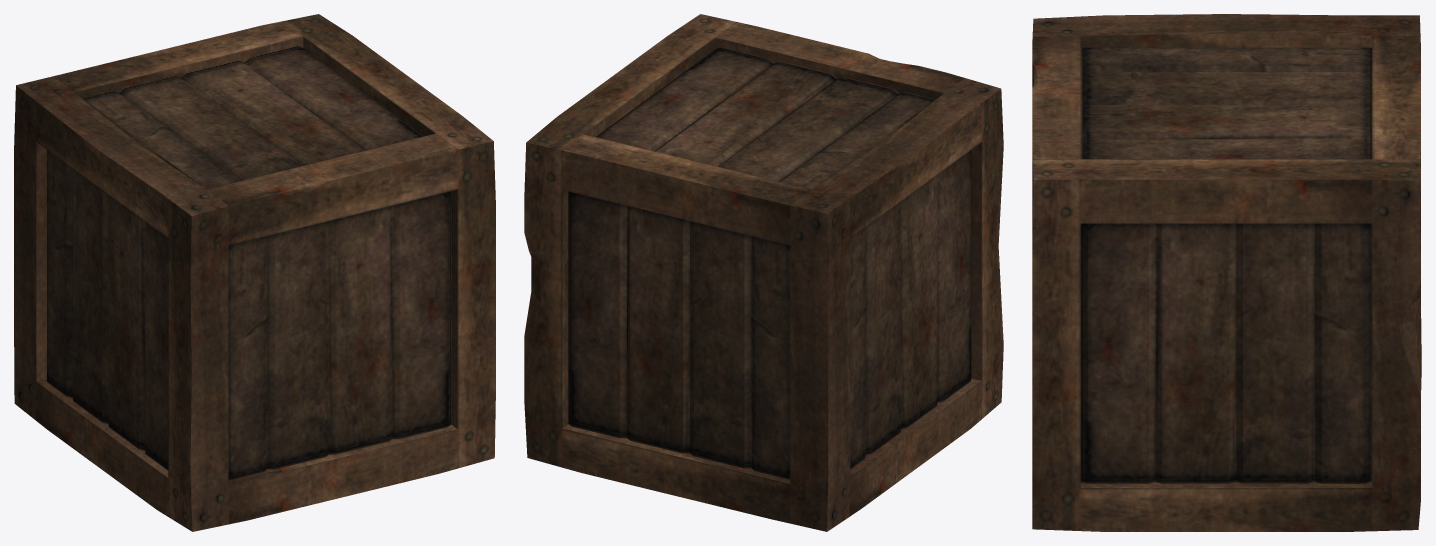
File: wooden_crate_4.obj
3 views of the same model, side by side, from view 1: azimuth 30°, elevation 25°; view 2: azimuth 150°, elevation 25°; view 3: azimuth 270°, elevation 25° (orthographic). The views are drawn at different scales.
Visible parts, largest first — view 1: wooden_crate_4; view 2: wooden_crate_4; view 3: wooden_crate_4.
Boxes of the visible parts, x1,y1,x2,y2 form: wooden_crate_4: [14, 14, 495, 531]; wooden_crate_4: [524, 14, 1003, 531]; wooden_crate_4: [1032, 14, 1421, 531].
Size of the model in its own units: 1.09 by 1.08 by 1.08.
